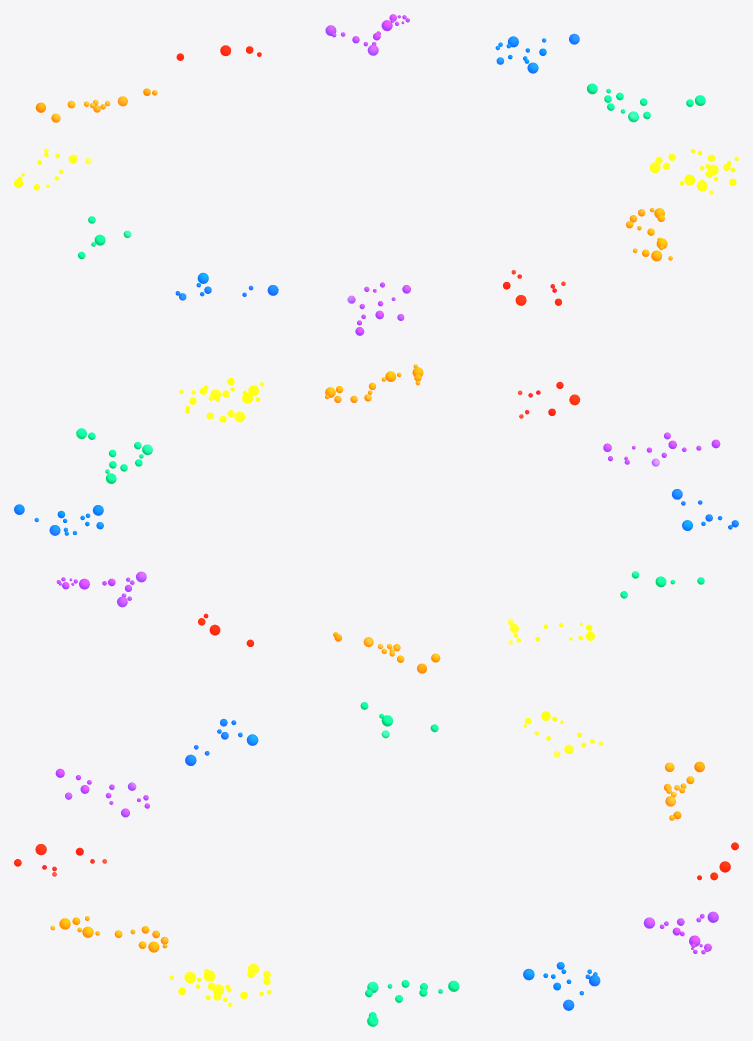
The model's file is Zodiac_costellation.glb.
3 views of the same model, one above another, from view 1: azimuth 30°, elevation 25°; view 2: azimuth 150°, elevation 25°; view 3: azimuth 270°, elevation 25° (orthographic). The views are drawn at different scales.
Visible parts, largest first — view 1: Costellation; view 2: Costellation; view 3: Costellation.
Boxes of the visible parts, x1,y1,x2,y2 form: Costellation: (14,14,738,335); Costellation: (14,364,738,673); Costellation: (14,702,738,1026).
Size of what is drawn, in the model's own units: 61.99 by 1.07 by 59.48.
1 material, 1 textured.
